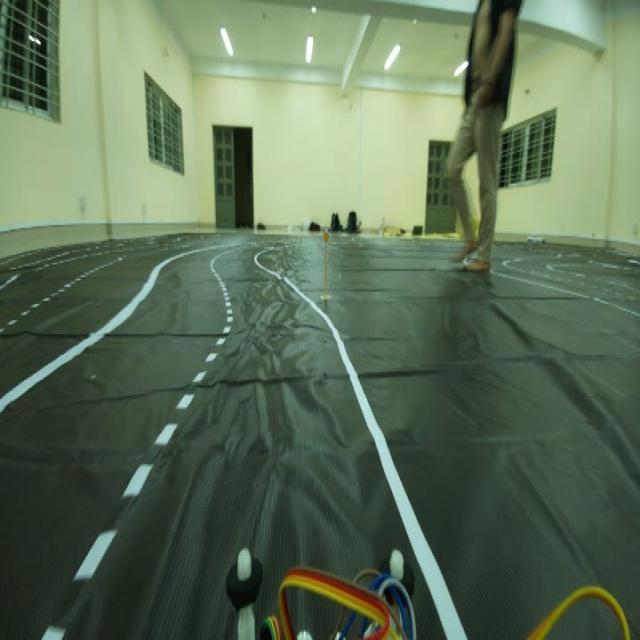priority: (320, 226, 333, 246)
